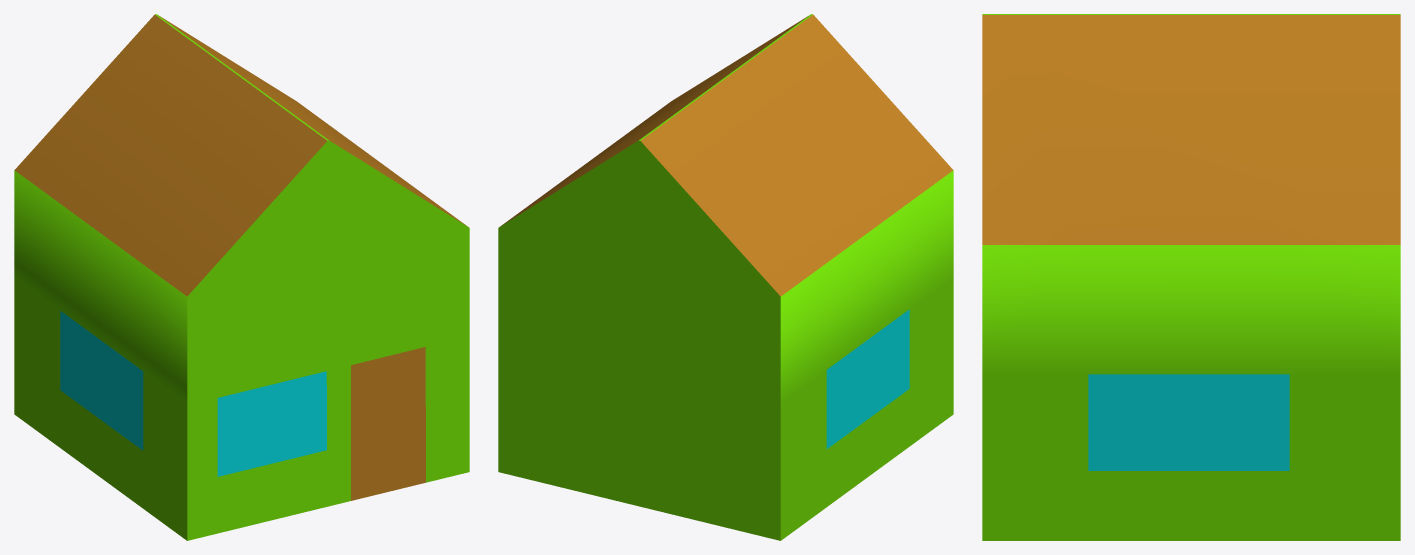
The model's file is house green.fbx.
3 views of the same model, side by side, from view 1: azimuth 30°, elevation 25°; view 2: azimuth 150°, elevation 25°; view 3: azimuth 270°, elevation 25° (orthographic). The views are drawn at different scales.
Visible parts, largest first — view 1: pCube2; view 2: pCube2; view 3: pCube2.
Part boxes in pixels (box(x1,y1,x2,y2)): pCube2: box(14, 14, 469, 540); pCube2: box(498, 14, 953, 540); pCube2: box(982, 14, 1400, 540).
Bounding box in the file's own units: 8.62 × 10.67 × 9.14.
